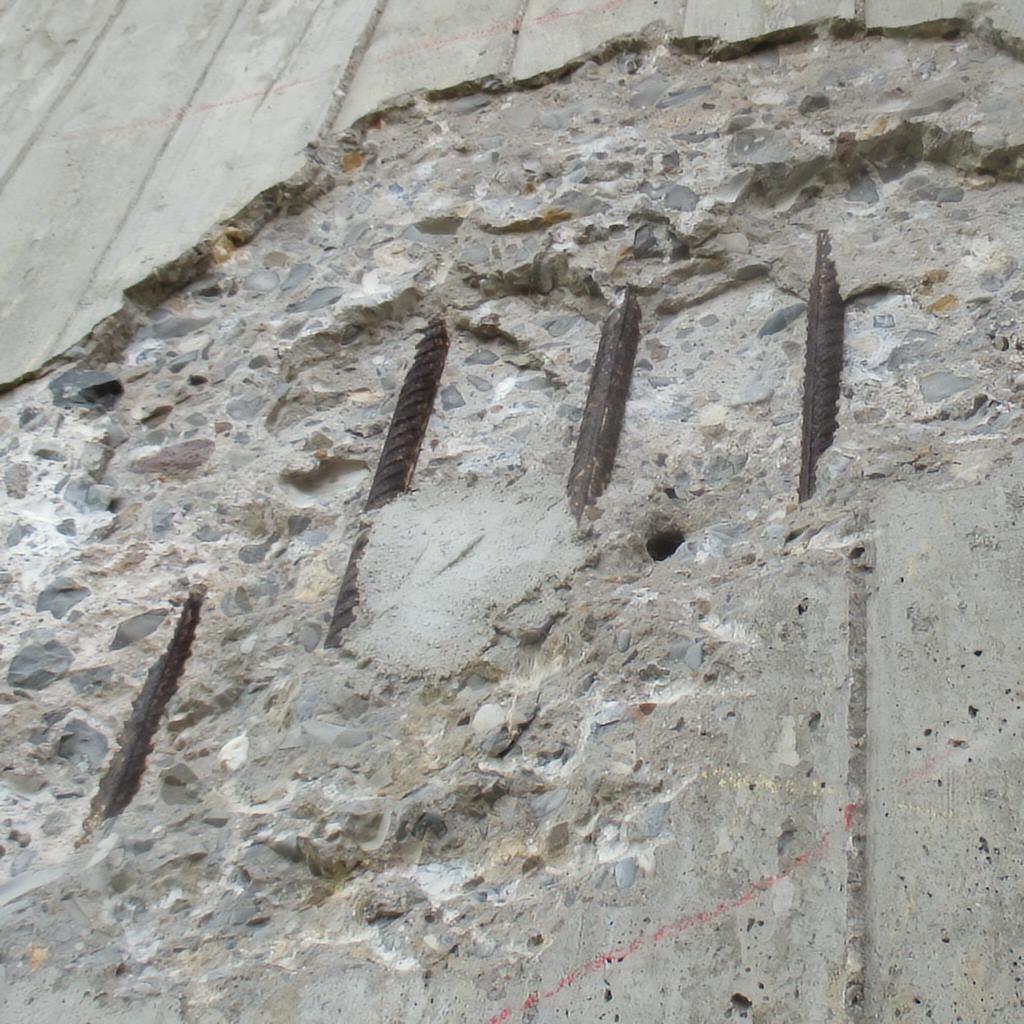exposed_rebar: (84, 592, 204, 831), (568, 288, 642, 517), (364, 318, 450, 513), (798, 230, 844, 501), (324, 520, 372, 648)
spalling: (0, 36, 1024, 1024)
